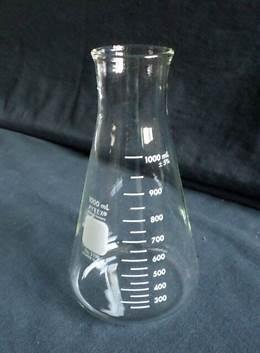Titrarion: (52, 38, 201, 315)
